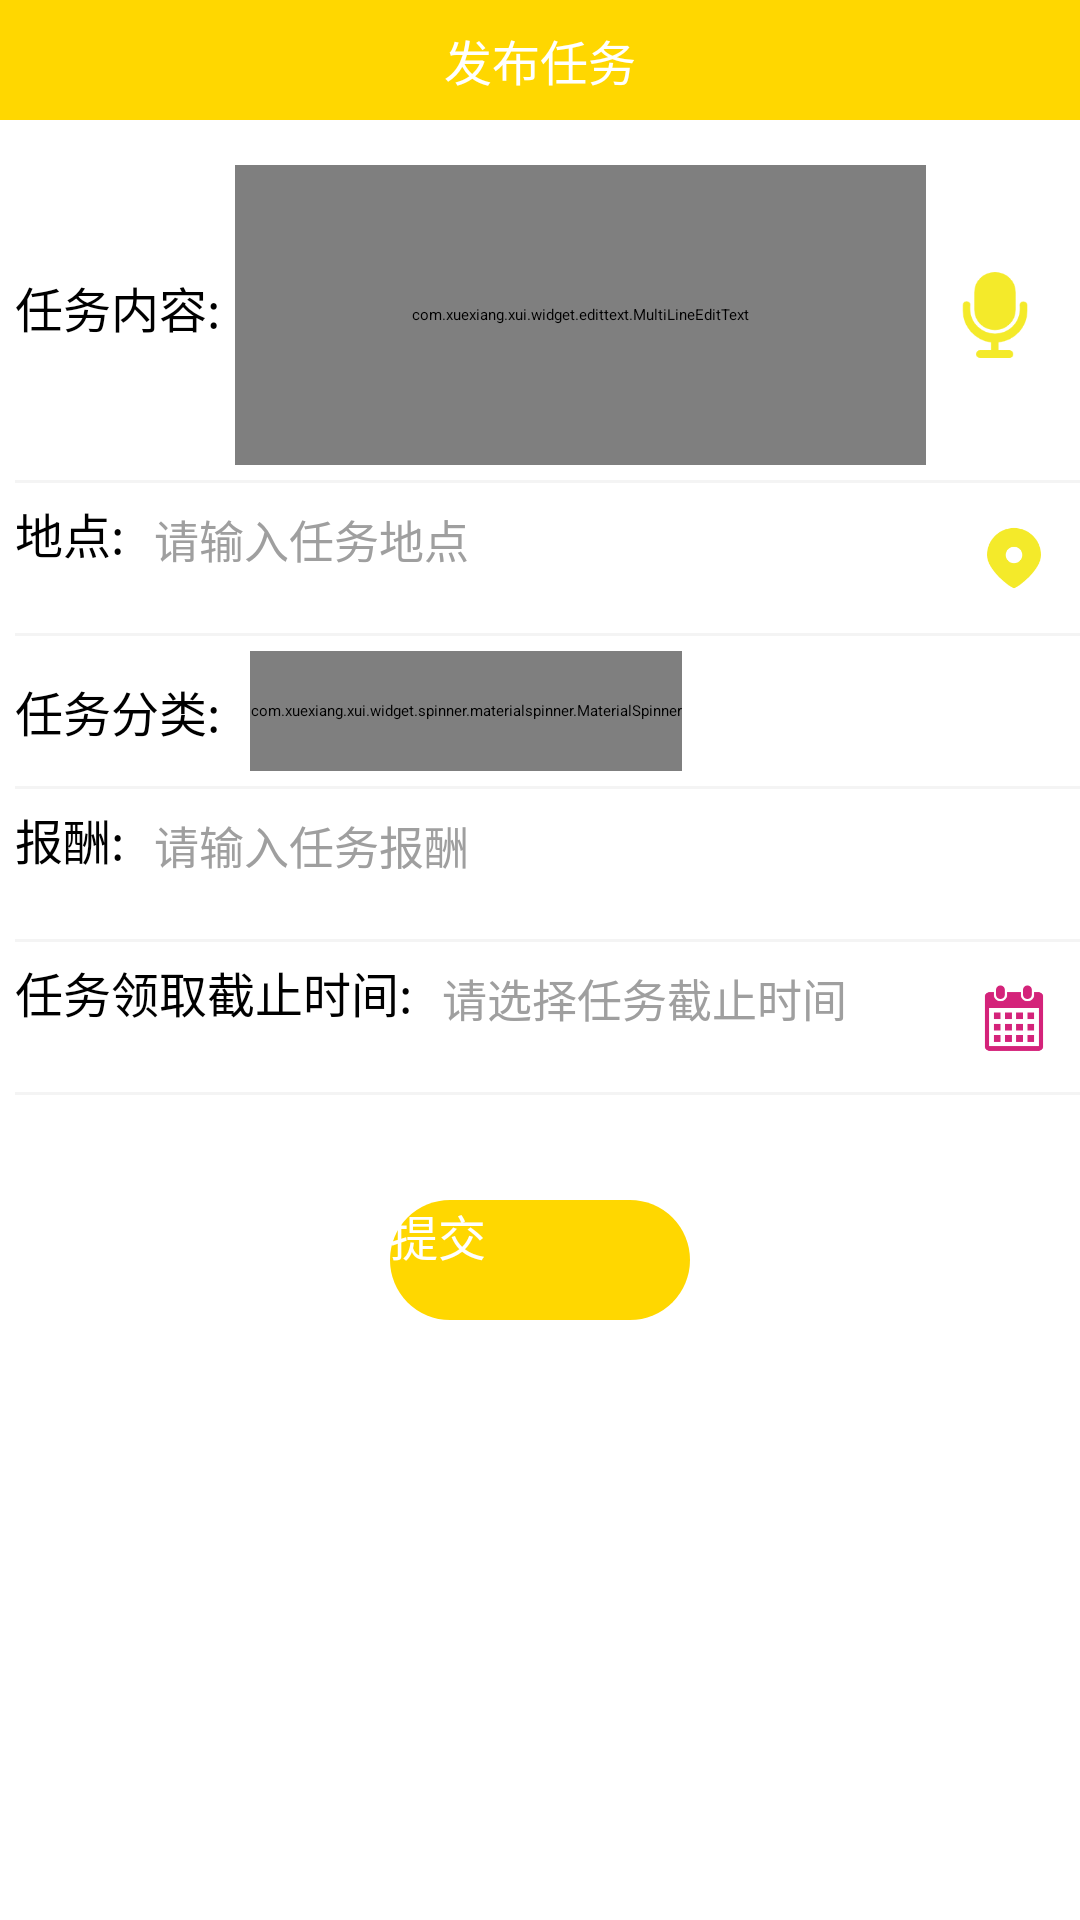

Point at icon controls on the screen. Image size 1080×1920, points as (x=x, y=y).
calendar: (x=1014, y=1018)
location: (x=1014, y=558)
record: (x=995, y=315)
